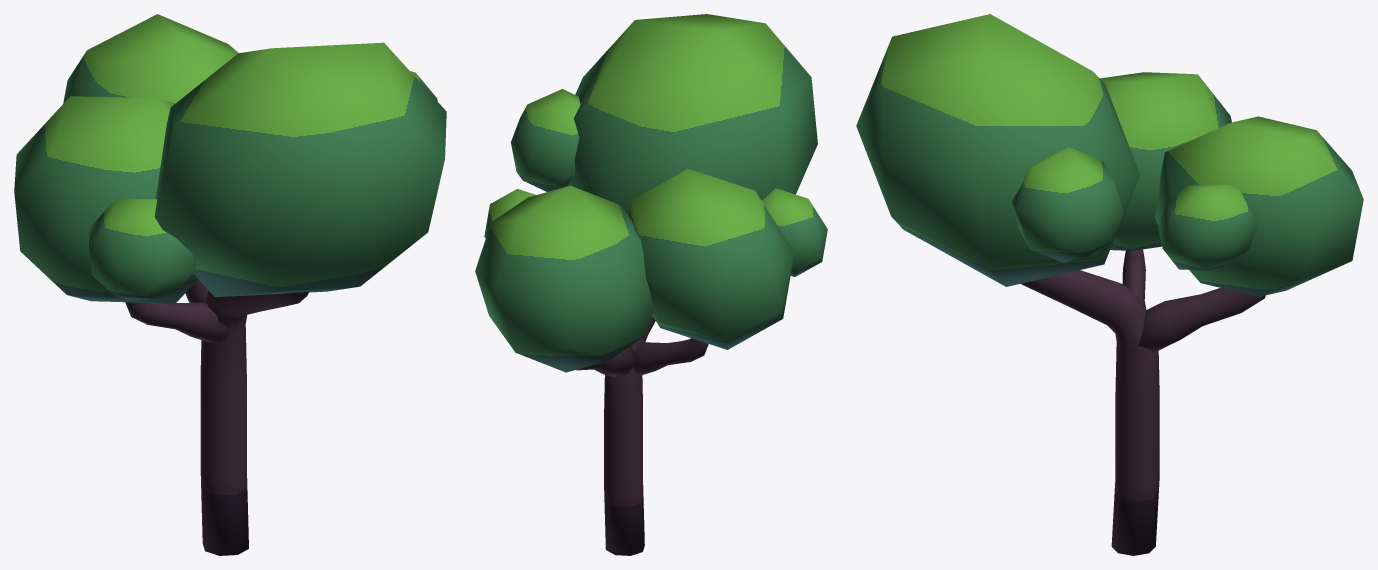
The model's file is Tree_G_1.fbx.
3 views of the same model, side by side, from view 1: azimuth 30°, elevation 25°; view 2: azimuth 150°, elevation 25°; view 3: azimuth 270°, elevation 25° (orthographic). The views are drawn at different scales.
Parts seen in each view (by area): view 1: Tree05; view 2: Tree05; view 3: Tree05.
Part boxes in pixels (x1,y1,x2,y2): Tree05: [14, 14, 446, 555]; Tree05: [475, 14, 827, 555]; Tree05: [856, 14, 1363, 555].
Bounding box in the file's own units: 685 × 1010 × 897.
Materials: 1 (1 with a texture image).
